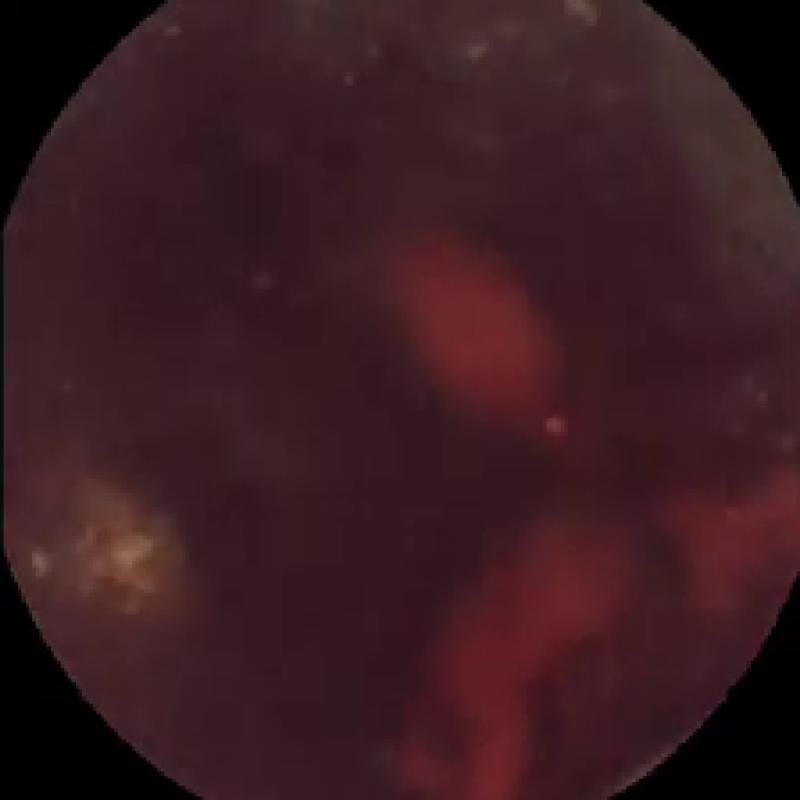bleeding: (405, 512, 635, 800), (396, 243, 572, 458), (645, 478, 800, 618)
